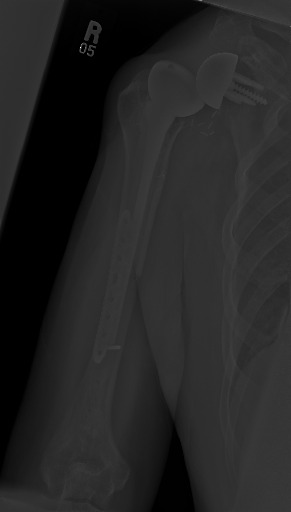implant: (96, 54, 212, 361)
